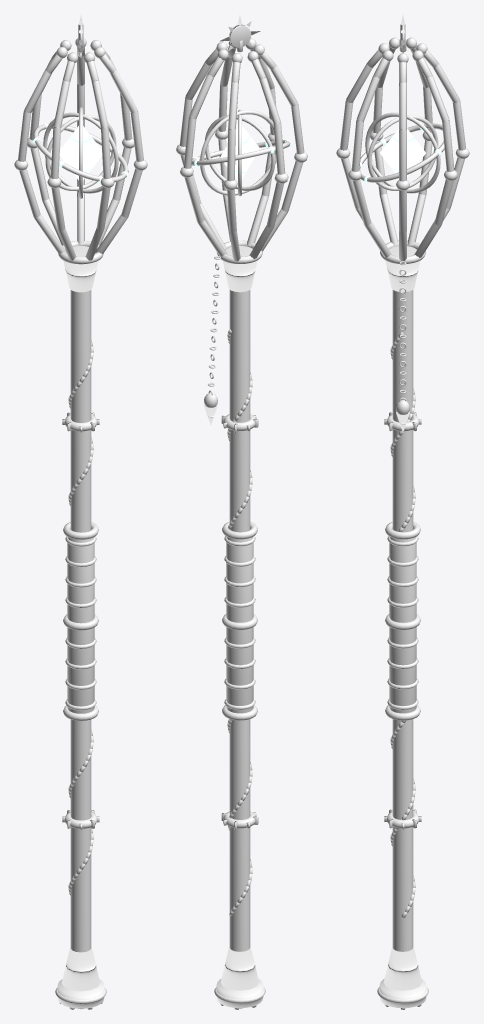
File: cetro_do_demiurgo.glb
3 renders of one model, left to right at view 1: azimuth 90°, elevation 25°; view 2: azimuth 210°, elevation 25°; view 3: azimuth 270°, elevation 25°, orthographic.
Visible parts, largest first — view 1: tinta_Cylinder, Cylinder.085, tinta_Cone, Cone.001, Torus.019, Cone.002, Torus.017, Cylinder.086, Torus.018, Cylinder.093, Cylinder.104, Cylinder.109 (+19 smaller); view 2: tinta_Cylinder, Cylinder.085, tinta_Cone, Cone.001, Torus.016, Torus.018, Cylinder.086, Torus.019, Cone.002, Cylinder.094, Cylinder.099, Cylinder.103 (+16 smaller); view 3: tinta_Cylinder, Cylinder.085, tinta_Cone, Cone.001, Torus.017, Torus.018, Torus.019, Cylinder.086, Cone.002, Cylinder.102, Cylinder.107, Cylinder.094 (+14 smaller).
Part boxes in pixels (<box>): tinta_Cylinder: <box>70,290,91,952</box>; Cylinder.085: <box>67,537,94,713</box>; tinta_Cone: <box>61,947,100,991</box>; Cone.001: <box>63,246,98,292</box>; Torus.019: <box>33,123,128,182</box>; Cone.002: <box>59,126,102,161</box>; Torus.017: <box>43,112,118,193</box>; Cylinder.086: <box>57,979,104,1008</box>; Torus.018: <box>45,115,116,190</box>; Cylinder.093: <box>30,147,49,200</box>; Cylinder.104: <box>50,126,60,179</box>; Cylinder.109: <box>101,126,111,179</box>; tinta_Cylinder: <box>229,290,250,951</box>; Cylinder.085: <box>226,536,253,713</box>; tinta_Cone: <box>220,947,259,990</box>; Cone.001: <box>223,246,257,292</box>; Torus.016: <box>200,110,276,195</box>; Torus.018: <box>204,115,275,190</box>; Cylinder.086: <box>216,978,263,1007</box>; Torus.019: <box>191,140,290,165</box>; Cone.002: <box>220,125,259,161</box>; Cylinder.094: <box>227,129,235,181</box>; Cylinder.099: <box>273,122,285,174</box>; Cylinder.103: <box>281,161,302,211</box>; tinta_Cylinder: <box>392,290,413,951</box>; Cylinder.085: <box>389,536,416,713</box>; tinta_Cone: <box>383,947,422,990</box>; Cone.001: <box>385,246,420,292</box>; Torus.017: <box>365,112,440,193</box>; Torus.018: <box>367,115,438,190</box>; Torus.019: <box>359,123,444,182</box>; Cylinder.086: <box>379,978,426,1008</box>; Cone.002: <box>380,128,425,160</box>; Cylinder.102: <box>407,194,426,245</box>; Cylinder.107: <box>379,194,398,245</box>; Cylinder.094: <box>442,120,454,171</box>.
Bounding box in the file's own units: 0.2015 × 1.7 × 0.2072.
